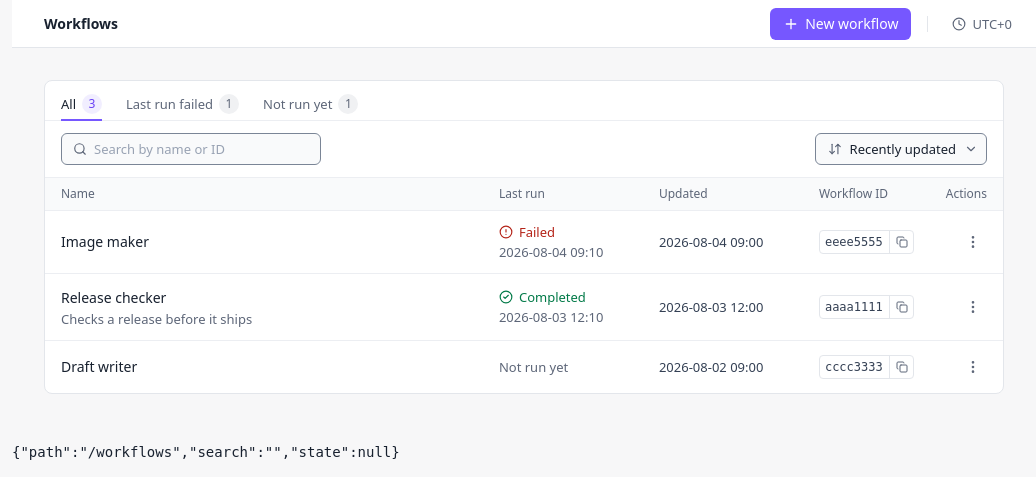
Test: WorkflowsPage tabs, search and sort › tab counts follow the search and the tab filters the rows
Check: the tab "Not run yet 1" is shown, box [263,89,358,121]
Click the tab "Last run failed 1".
click(182, 105)  # box [126,89,239,121]
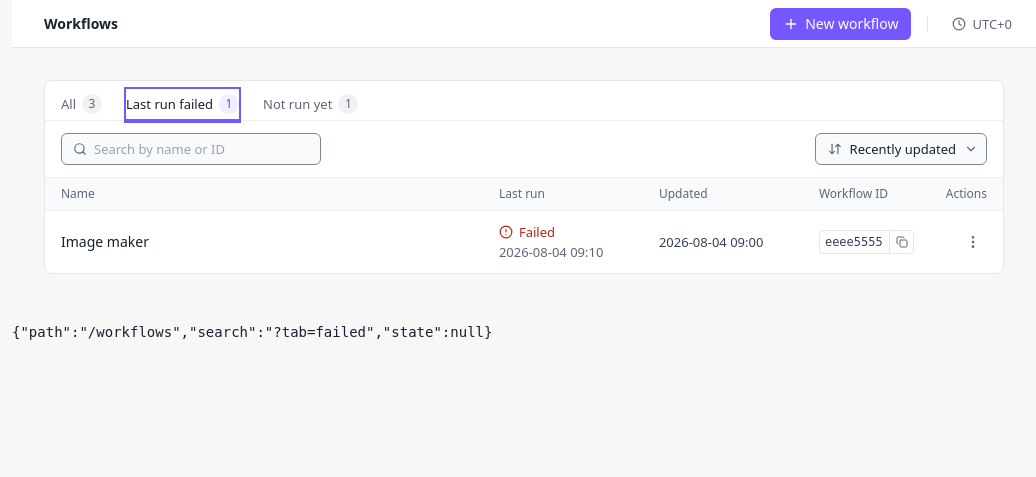
Click the tab "All 3".
click(82, 105)  # box [61,89,102,121]
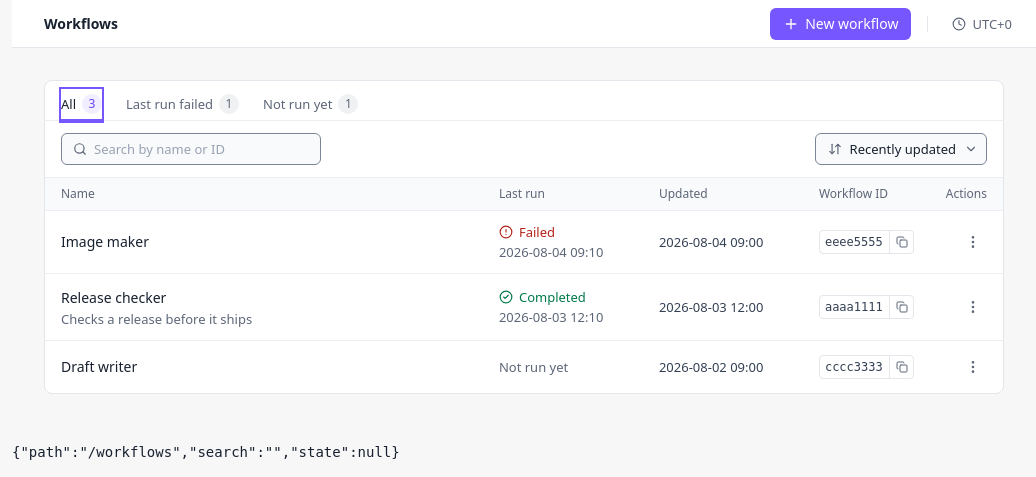
Type "release" into the search field named "Search workflows by name or ID".
click(191, 149); type("release")  # box [61,133,321,165]
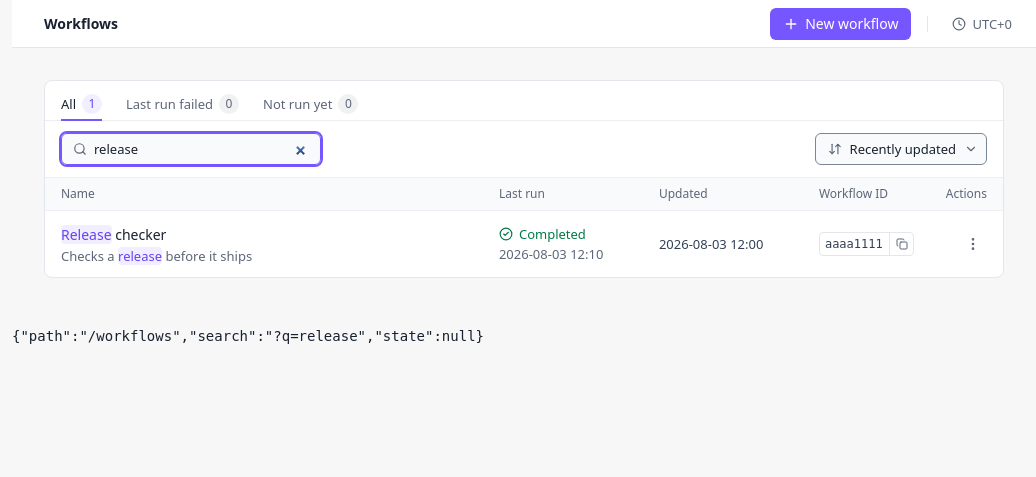
Check: the tab "All 1" is shown, box [61,89,102,121]
Check: the tab "Last run failed 0" is shown, box [126,89,239,121]
